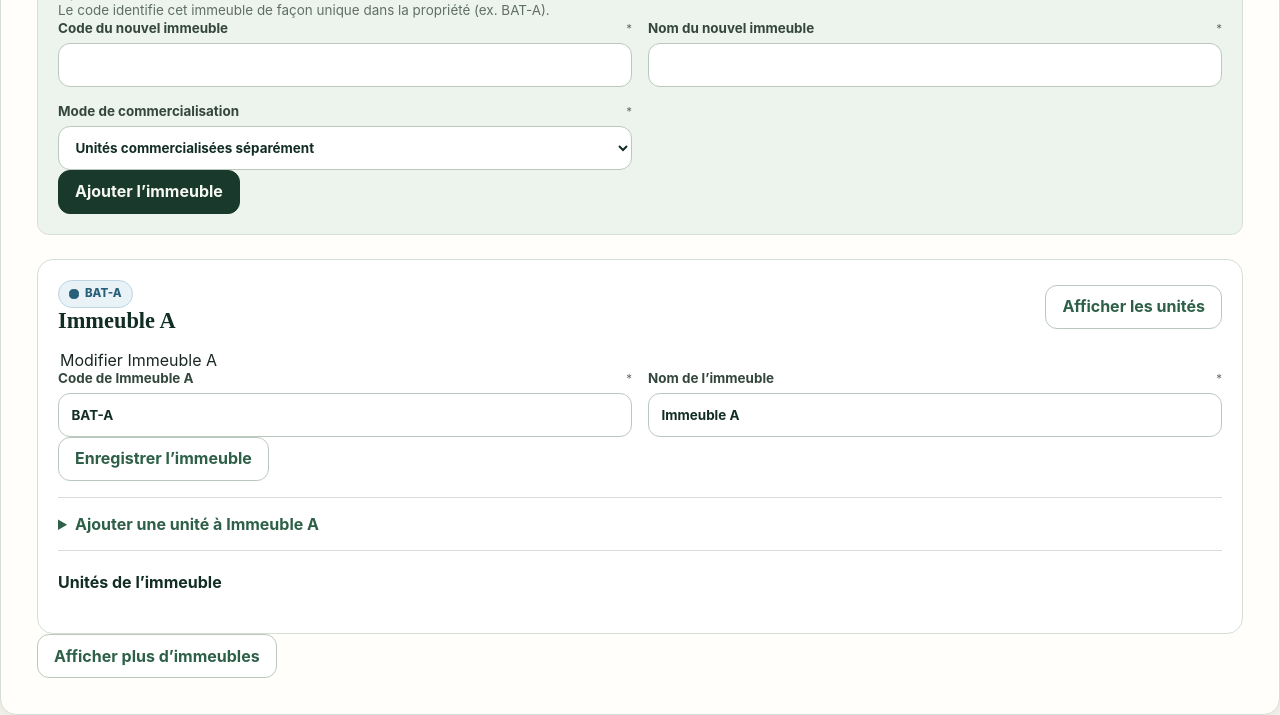
Test: Composition du bien Web › conserve les Buildings si la page suivante échoue
(page scrolled)
Expected: the element "Modifier Immeuble A" is shown, x1=58 y1=350 x2=1222 y2=481
Click the button "Afficher plus d’immeubles". click: (157, 656)
box: x1=37 y1=634 x2=277 y2=678
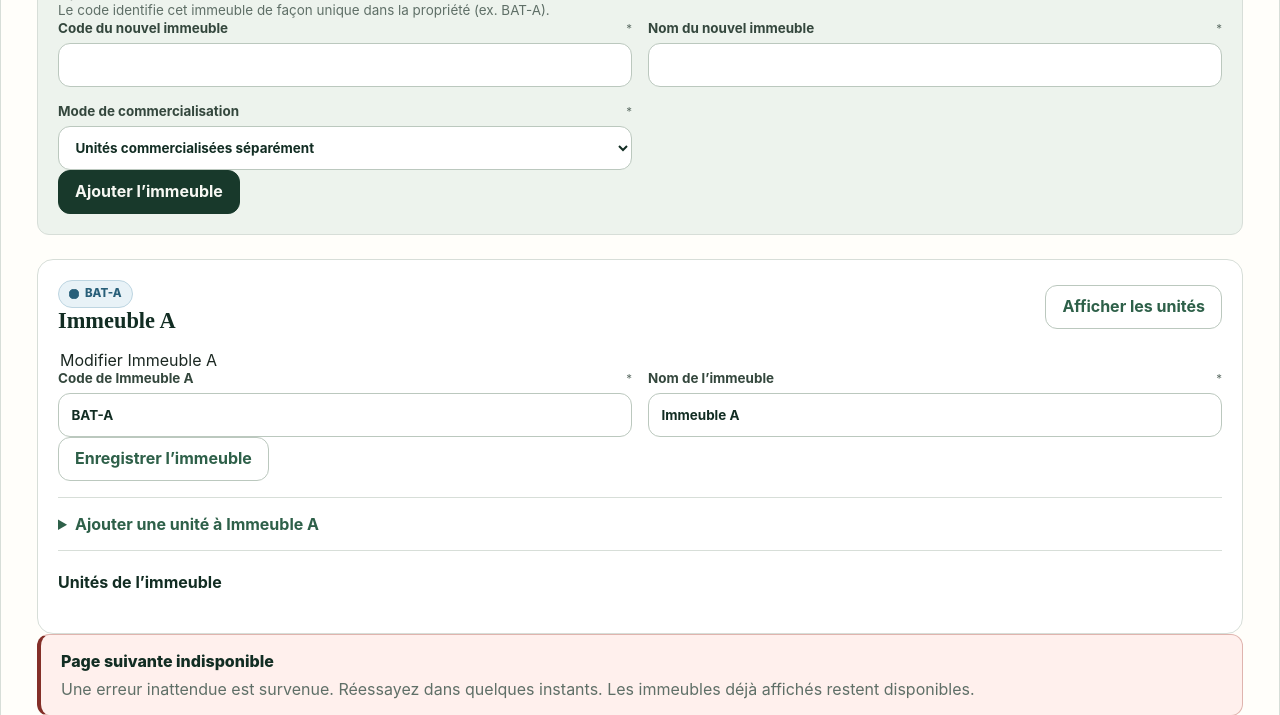
Expected: the element "Modifier Immeuble A" is shown, x1=58 y1=350 x2=1222 y2=481
Now the text "Les immeubles déjà affichés restent disponibles" is shown, box x1=61 y1=679 x2=975 y2=699
